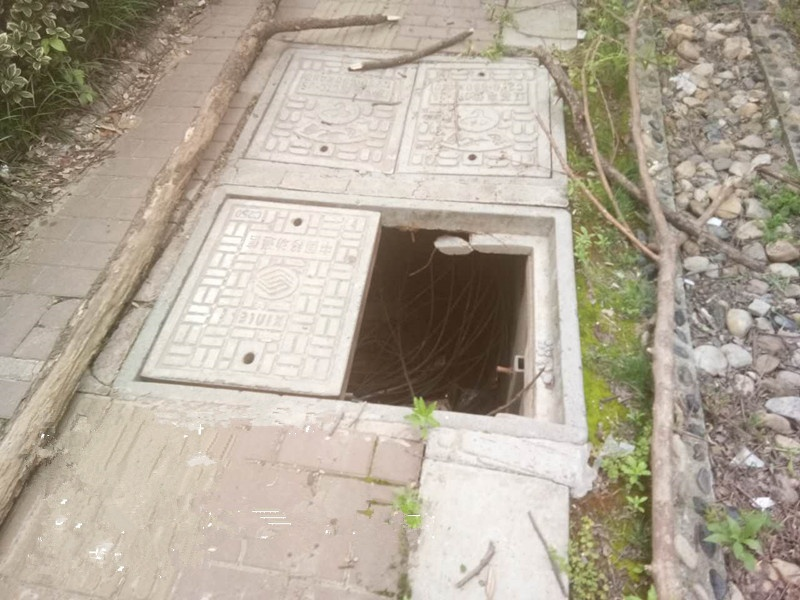good: (233, 42, 571, 206)
lose: (114, 184, 588, 445)
